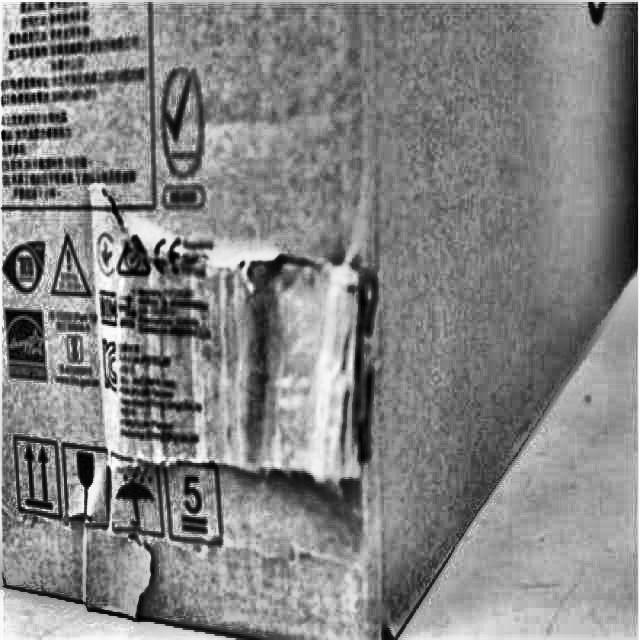box: (0, 0, 639, 639)
hole: (336, 271, 387, 475)
